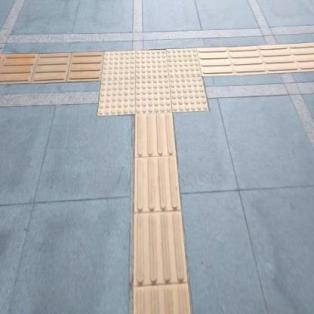Podoctatil: (84, 26, 222, 136), (134, 115, 191, 313), (203, 39, 314, 76), (0, 54, 100, 84)
